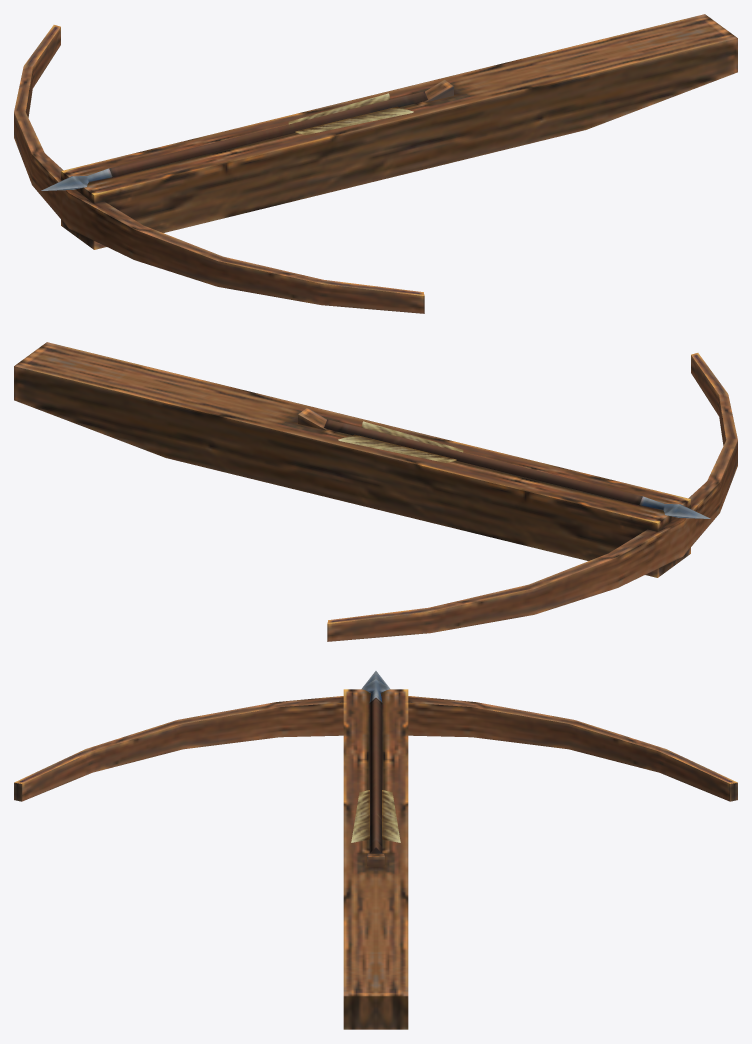
Rendered from Crossbow01_a.FBX.
3 views of the same model, one above another, from view 1: azimuth 30°, elevation 25°; view 2: azimuth 150°, elevation 25°; view 3: azimuth 270°, elevation 25° (orthographic). The views are drawn at different scales.
Visible parts, largest first — view 1: Crossbow01_a; view 2: Crossbow01_a; view 3: Crossbow01_a.
Part boxes in pixels (<box>): Crossbow01_a: <box>14,14,737,313</box>; Crossbow01_a: <box>14,342,737,641</box>; Crossbow01_a: <box>14,671,737,1029</box>.
Bounding box in the file's own units: 90.04 × 8.13 × 84.89.
